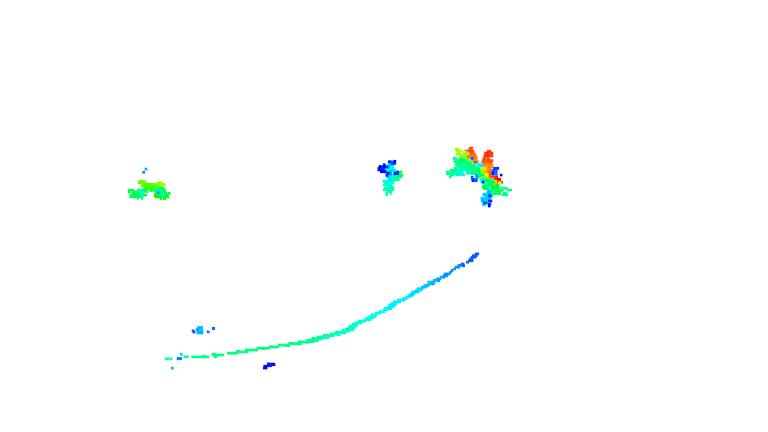chickpea: (447, 145, 516, 210), (375, 156, 410, 201), (122, 177, 175, 205)
